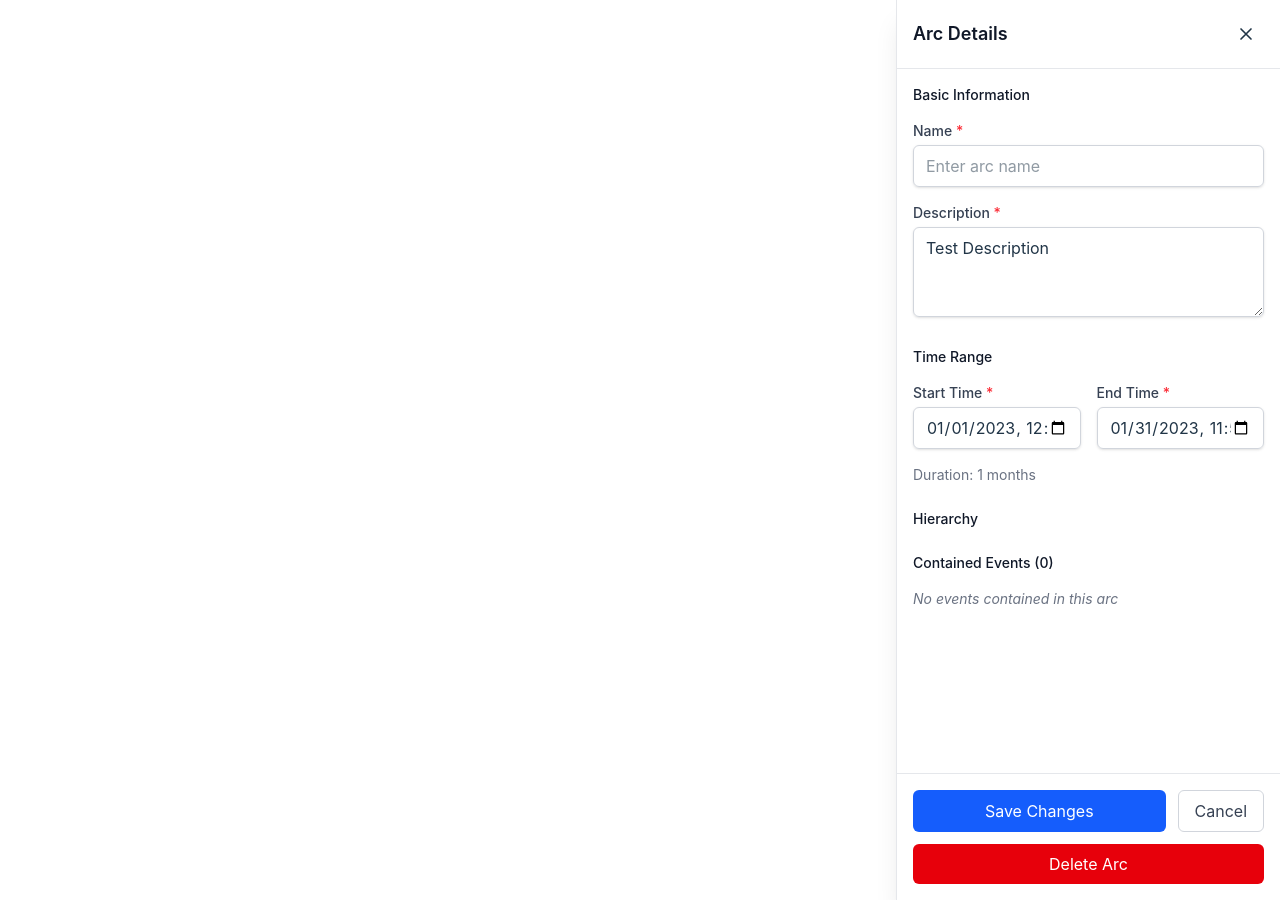
Test: ArcDetailPanel › Validation › shows validation error for empty name
This screenshot has width=1280, height=900.
Step 1. Click the button "Save Changes" → click(1039, 811), box [913,790,1166,832]
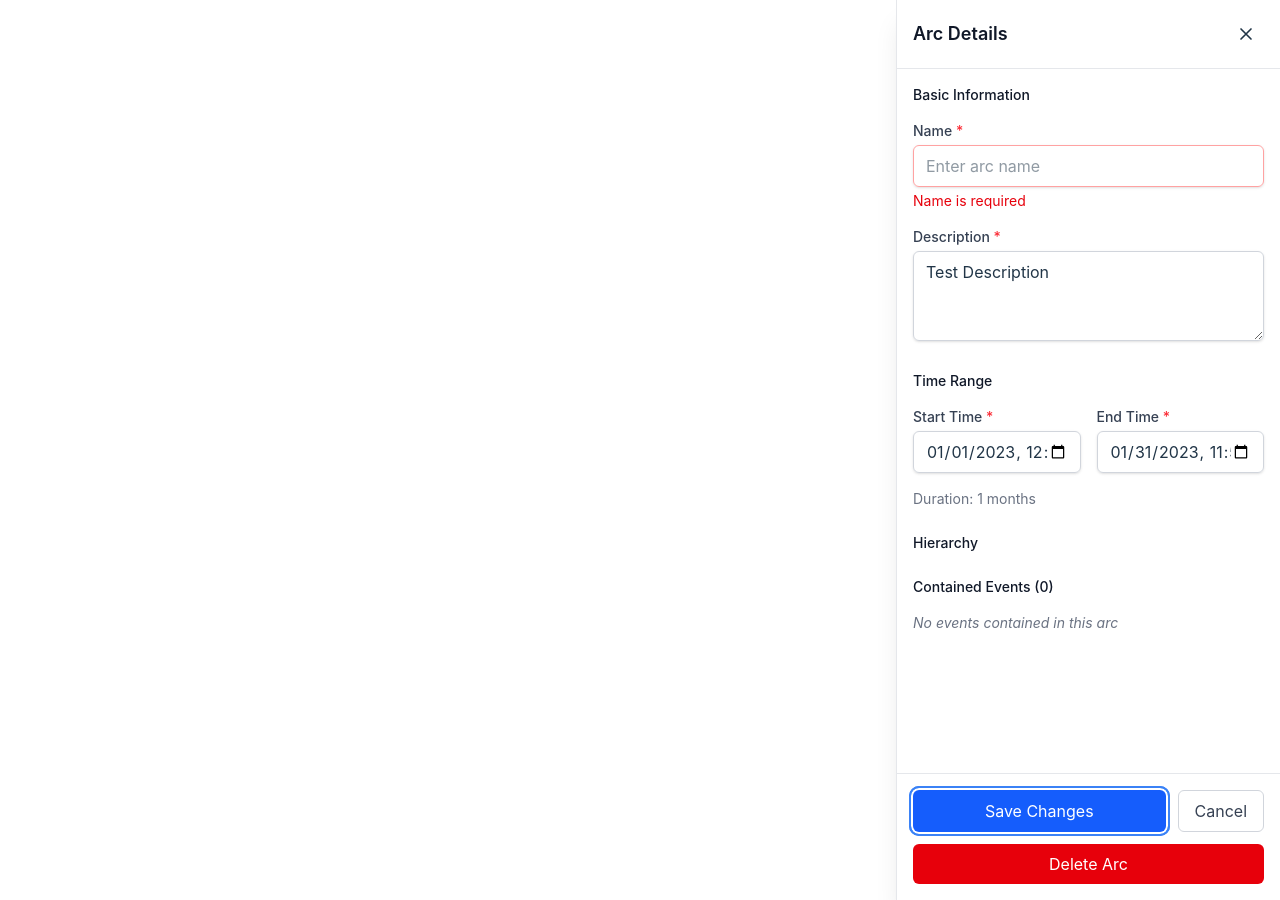
expect the text "Name is required" is shown: met, box [913,192,1026,209]
